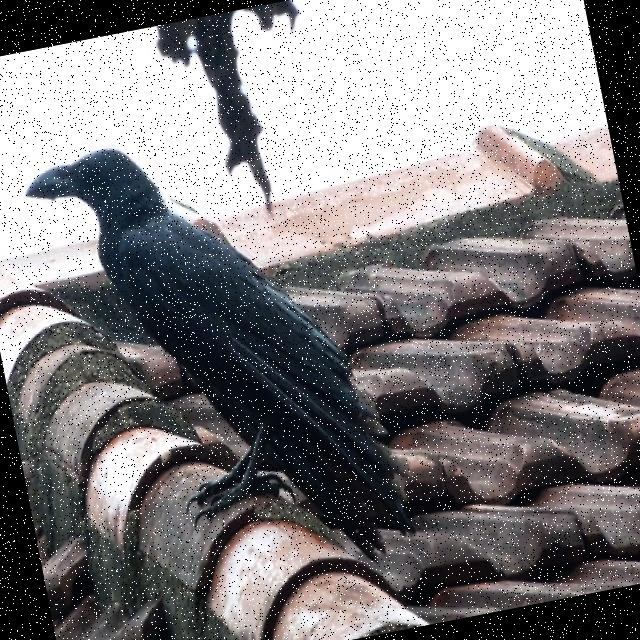bird: (20, 101, 426, 610)
